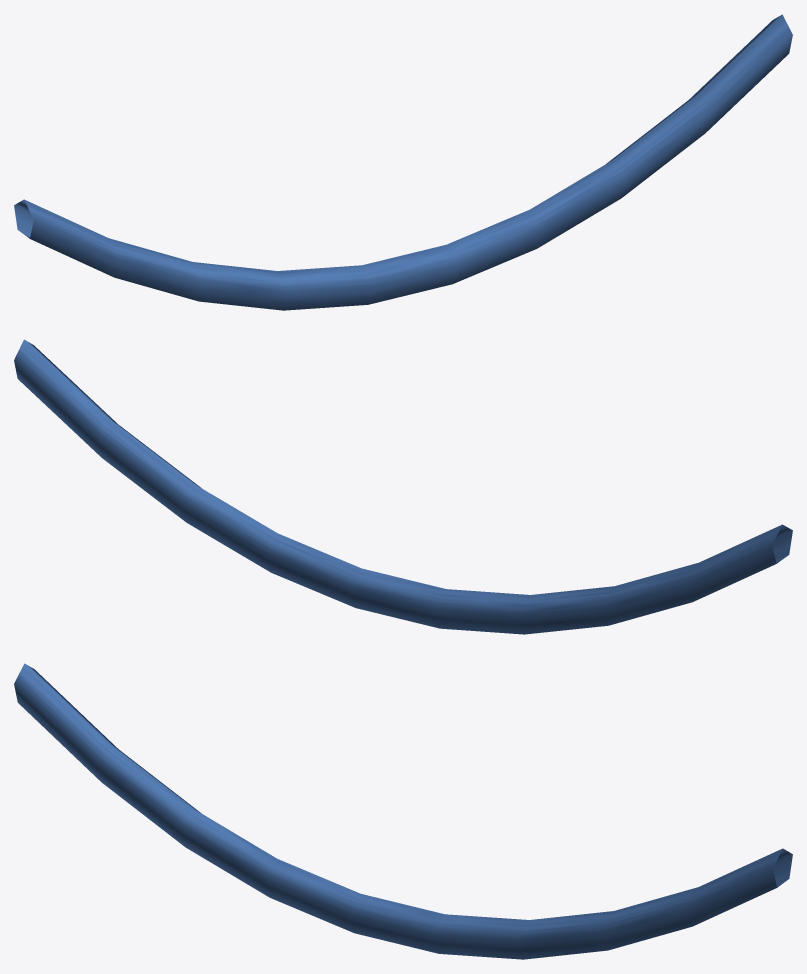
Rendered from DontFallRope.FBX.
3 views of the same model, one above another, from view 1: azimuth 30°, elevation 25°; view 2: azimuth 150°, elevation 25°; view 3: azimuth 330°, elevation 25° (orthographic).
Parts seen in each view (by area): view 1: DontFallRope; view 2: DontFallRope; view 3: DontFallRope.
Boxes of the visible parts, bbox=[...] form: DontFallRope: bbox=[14, 14, 792, 310]; DontFallRope: bbox=[14, 339, 792, 634]; DontFallRope: bbox=[14, 663, 792, 959].
Bounding box in the file's own units: 18.5 × 4.25 × 0.893.
1 material, 1 textured.
